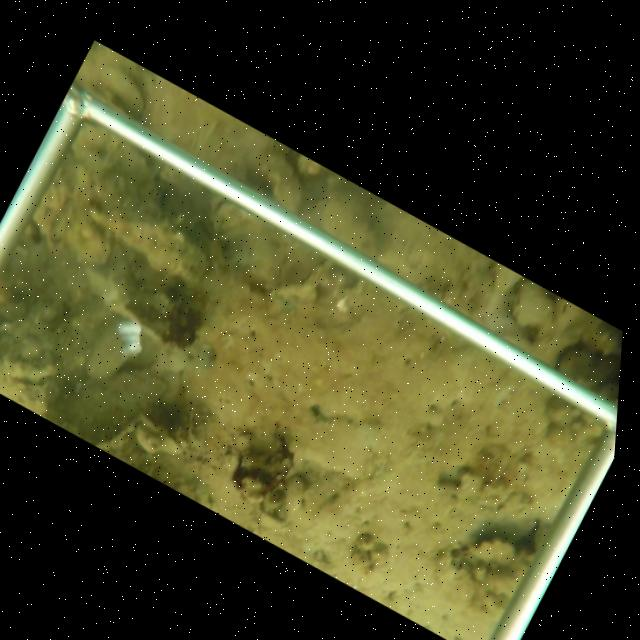Oyster-Indeterminate: (98, 63, 149, 119)
